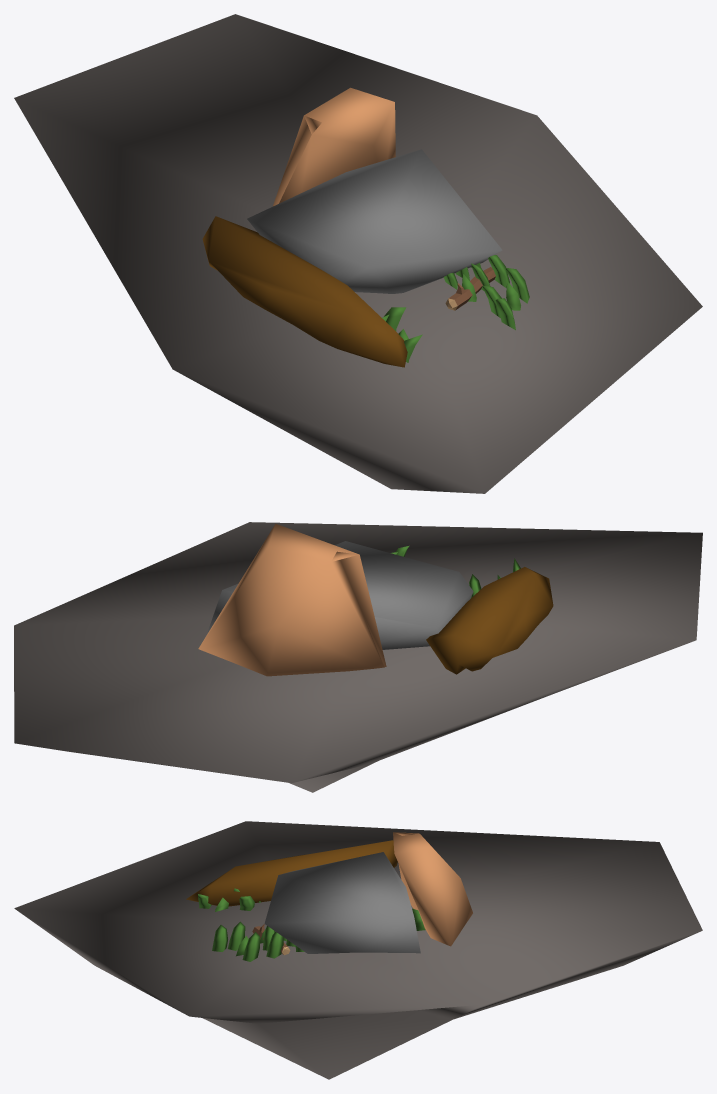
The model's file is GrassBunch1.fbx.
The picture shows the model from 3 angles, top to bottom: view 1: azimuth 30°, elevation 25°; view 2: azimuth 150°, elevation 25°; view 3: azimuth 270°, elevation 25°; orthographic projection. The views are drawn at different scales.
Parts seen in each view (by area): view 1: Branch; view 2: Branch; view 3: Branch.
Boxes of the visible parts, x1,y1,x2,y2 form: Branch: [14, 14, 702, 493]; Branch: [14, 522, 702, 792]; Branch: [14, 821, 702, 1079].
Size of the model in its own units: 20252 by 11265 by 31461.
